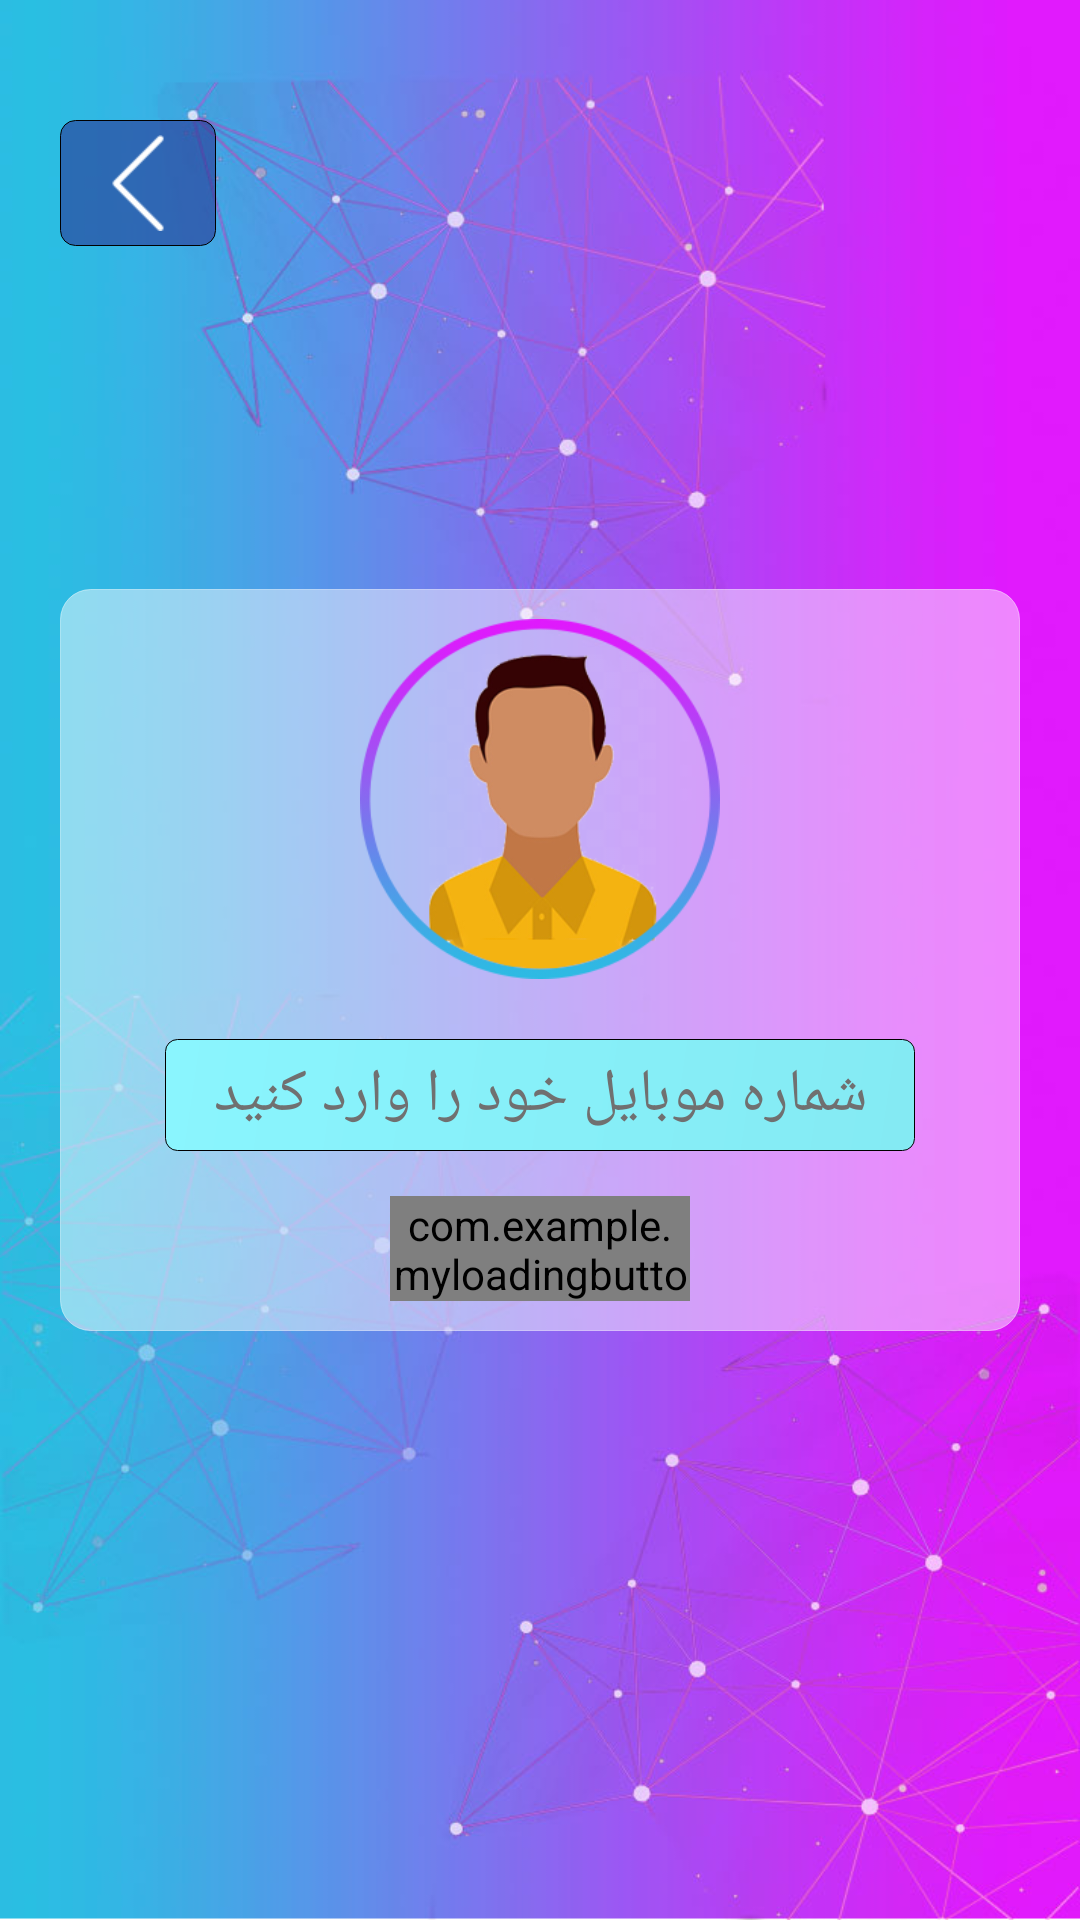

Screen size 1080x1920. Icon name, then its box in pixels as (x1, y1, x2, y2):
backicon: (112, 135, 164, 231)
